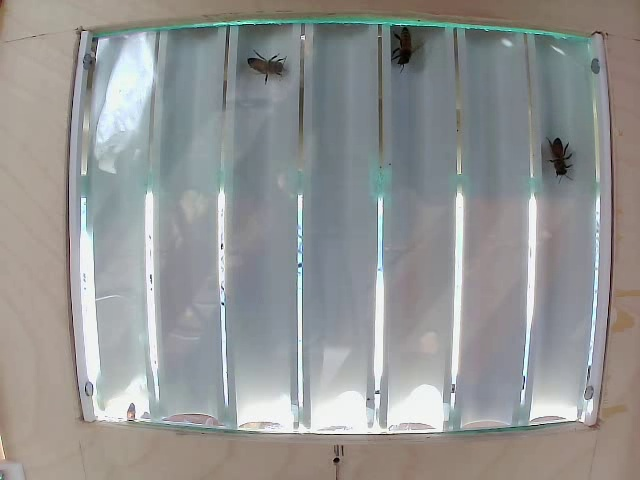bee: (385, 28, 427, 73), (243, 53, 292, 85), (547, 132, 571, 183)
